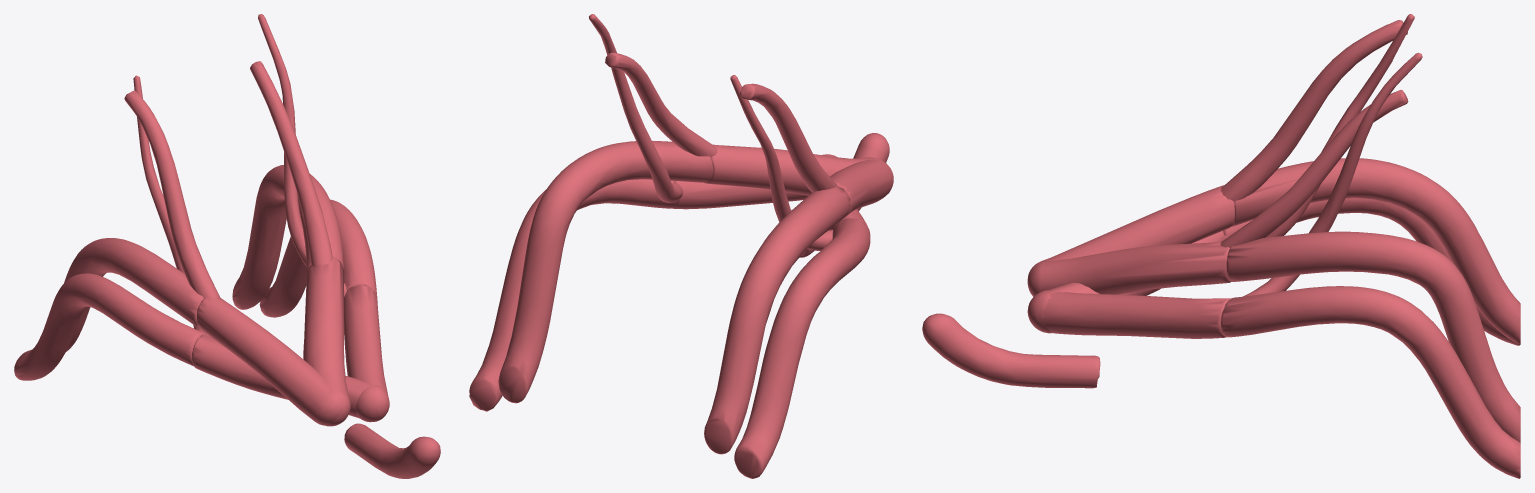
Rendered from abdomen__vascular.7e73b02ae2.glb.
3 views of the same model, side by side, from view 1: azimuth 30°, elevation 25°; view 2: azimuth 150°, elevation 25°; view 3: azimuth 270°, elevation 25° (orthographic). The views are drawn at different scales.
Visible parts, largest first — view 1: FMA18806, FMA21387, FMA18886, FMA18885, FMA21388, FMA14766, FMA18887, FMA18807, FMA18888, FMA14750, FMA14765, FMA18810 (+1 smaller); view 2: FMA18886, FMA18885, FMA18806, FMA18807, FMA21388, FMA18887, FMA18888, FMA18810, FMA14766, FMA21387, FMA18809, FMA14750; view 3: FMA18886, FMA18807, FMA18885, FMA14766, FMA21388, FMA14750, FMA21387, FMA18887, FMA18888, FMA18810, FMA18806, FMA18809 (+1 smaller).
Part boxes in pixels (x1=…): FMA18806: x1=14, y1=273, x2=205, y2=380; FMA21387: x1=197, y1=297, x2=343, y2=425; FMA18886: x1=232, y1=165, x2=343, y2=309; FMA18885: x1=64, y1=238, x2=203, y2=351; FMA21388: x1=303, y1=258, x2=350, y2=426; FMA14766: x1=344, y1=284, x2=389, y2=422; FMA18887: x1=124, y1=90, x2=220, y2=298; FMA18807: x1=259, y1=199, x2=377, y2=317; FMA18888: x1=250, y1=61, x2=332, y2=266; FMA14750: x1=344, y1=423, x2=440, y2=478; FMA14765: x1=192, y1=335, x2=388, y2=421; FMA18810: x1=258, y1=14, x2=347, y2=297; FMA18886: x1=498, y1=140, x2=713, y2=403; FMA18885: x1=704, y1=185, x2=850, y2=454; FMA18806: x1=734, y1=218, x2=870, y2=478; FMA18807: x1=469, y1=179, x2=676, y2=411; FMA21388: x1=704, y1=144, x2=878, y2=195; FMA18887: x1=740, y1=83, x2=837, y2=192; FMA18888: x1=605, y1=52, x2=717, y2=157; FMA18810: x1=589, y1=14, x2=683, y2=202; FMA14766: x1=671, y1=155, x2=837, y2=209; FMA21387: x1=830, y1=159, x2=893, y2=215; FMA18809: x1=730, y1=75, x2=832, y2=250; FMA14750: x1=799, y1=133, x2=889, y2=257; FMA18886: x1=1226, y1=231, x2=1520, y2=442; FMA18807: x1=1221, y1=286, x2=1520, y2=478; FMA18885: x1=1231, y1=158, x2=1520, y2=343; FMA14766: x1=1027, y1=290, x2=1231, y2=338; FMA21388: x1=1027, y1=242, x2=1231, y2=296; FMA14750: x1=922, y1=313, x2=1100, y2=388; FMA21387: x1=1027, y1=185, x2=1234, y2=279; FMA18887: x1=1220, y1=20, x2=1407, y2=202; FMA18888: x1=1220, y1=90, x2=1408, y2=247; FMA18810: x1=1243, y1=52, x2=1422, y2=296; FMA18806: x1=1223, y1=198, x2=1520, y2=345; FMA18809: x1=1219, y1=14, x2=1414, y2=241.
Size of the model in its own units: 108 by 133 by 182.
